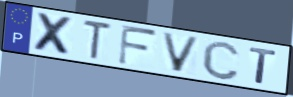C: (201, 40, 242, 82)
F: (116, 23, 160, 68)
T: (81, 18, 114, 61), (248, 45, 279, 86)
V: (160, 31, 202, 75)
X: (31, 10, 76, 58)
